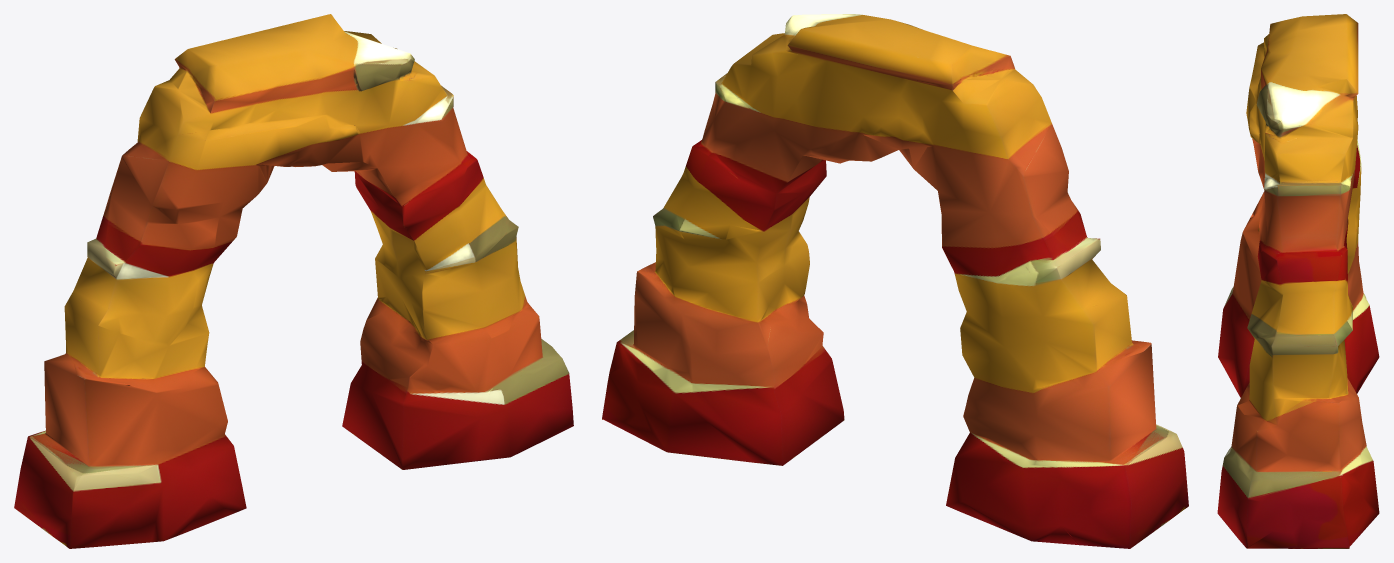
File: irrhakur_stone_arch_1.glb
3 renders of one model, left to right at view 1: azimuth 30°, elevation 25°; view 2: azimuth 150°, elevation 25°; view 3: azimuth 270°, elevation 25°, orthographic. The views are drawn at different scales.
Parts seen in each view (by area): view 1: Mesh_0; view 2: Mesh_0; view 3: Mesh_0.
Part boxes in pixels (left/top/right/bottom): Mesh_0: left=14, top=14, right=573, bottom=548; Mesh_0: left=602, top=14, right=1188, bottom=548; Mesh_0: left=1217, top=14, right=1379, bottom=548.
Size of the model in its own units: 1.91 by 1.52 by 0.577.
1 material, 1 textured.
